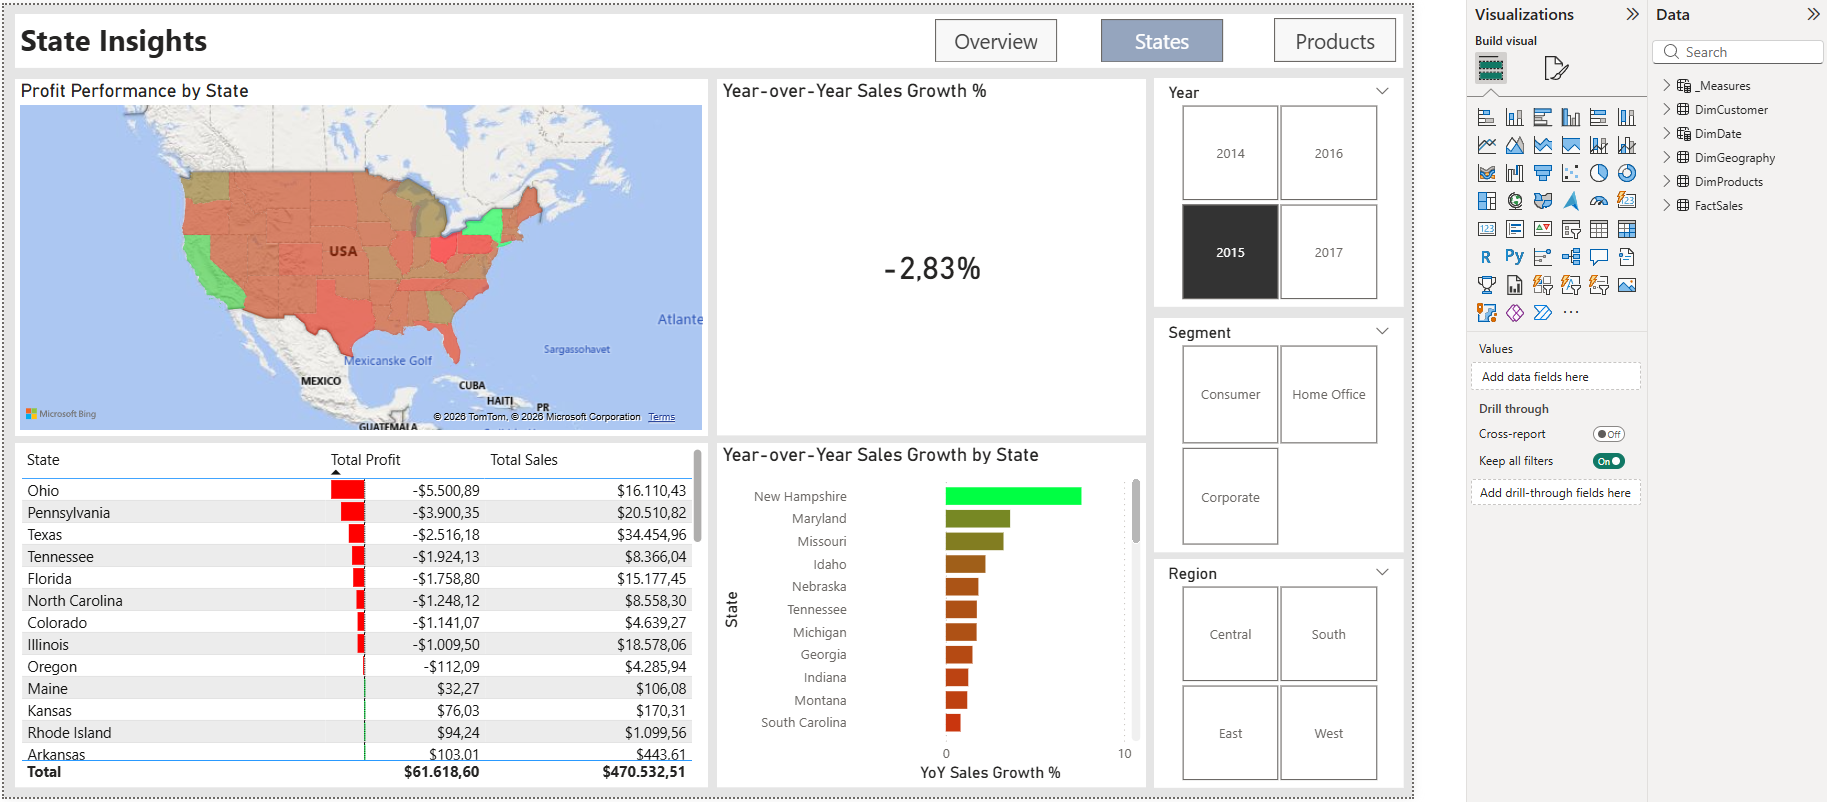

The page's visual inventory and layout, read from the dashboard file:
{"tool":"powerbi","page":{"name":"State Insights","canvas":[1280,720],"ordinal":1},"visuals":[{"type":"textbox","box":[10,7.8,1262.2,48.9],"z":0},{"type":"slicer","fields":{"Values":["DimDate.Year"]},"box":[1045.6,66.7,226.7,207.8],"z":1000},{"type":"slicer","fields":{"Values":["DimCustomer.Segment"]},"box":[1045.6,284.4,226.7,213.3],"z":2000},{"type":"slicer","fields":{"Values":["DimGeography.Region"]},"box":[1045.6,503.3,226.7,207.8],"z":3000},{"type":"filledMap","title":"Profit Performance by State","fields":{"Category":["DimGeography.State"]},"box":[9.7,67.1,630.3,323.9],"z":4000},{"type":"tableEx","fields":{"Values":["DimGeography.State","_Measures.Total Profit","_Measures.Total Sales"]},"box":[10,398,630,313],"z":5000},{"type":"clusteredBarChart","title":"Year-over-Year Sales Growth by State","fields":{"Y":["_Measures.YoY Sales Growth %"],"Category":["DimGeography.State"]},"box":[648,398,390,313],"z":6000},{"type":"kpi","title":"Year-over-Year Sales Growth %","fields":{"Indicator":["_Measures.YoY Sales Growth %"],"TrendLine":["DimDate.Year"]},"box":[648,67,390,324],"z":7000},{"type":"actionButton","title":"Products","box":[1154.4,12.2,111.1,40],"z":7001},{"type":"actionButton","title":"Products","box":[997.6,12.5,111,39.4],"z":7002},{"type":"actionButton","title":"Products","box":[846.3,12.5,111,39.4],"z":7003}]}

Visuals, with their boxes on the page's 1280x720 design canvas (x1, y1, x2, y2). These are canvas units, not pixel positions in the 1827x802 screenshot, which may show the page scaled, cropped or inside an application window:
textbox: [x1=10, y1=8, x2=1272, y2=57]
slicer - DimDate.Year: [x1=1046, y1=67, x2=1272, y2=274]
slicer - DimCustomer.Segment: [x1=1046, y1=284, x2=1272, y2=498]
slicer - DimGeography.Region: [x1=1046, y1=503, x2=1272, y2=711]
"Profit Performance by State" filledMap: [x1=10, y1=67, x2=640, y2=391]
tableEx - DimGeography.State x _Measures.Total Profit: [x1=10, y1=398, x2=640, y2=711]
"Year-over-Year Sales Growth by State" clusteredBarChart: [x1=648, y1=398, x2=1038, y2=711]
"Year-over-Year Sales Growth %" kpi: [x1=648, y1=67, x2=1038, y2=391]
"Products" actionButton: [x1=1154, y1=12, x2=1266, y2=52]
"Products" actionButton: [x1=998, y1=12, x2=1109, y2=52]
"Products" actionButton: [x1=846, y1=12, x2=957, y2=52]
